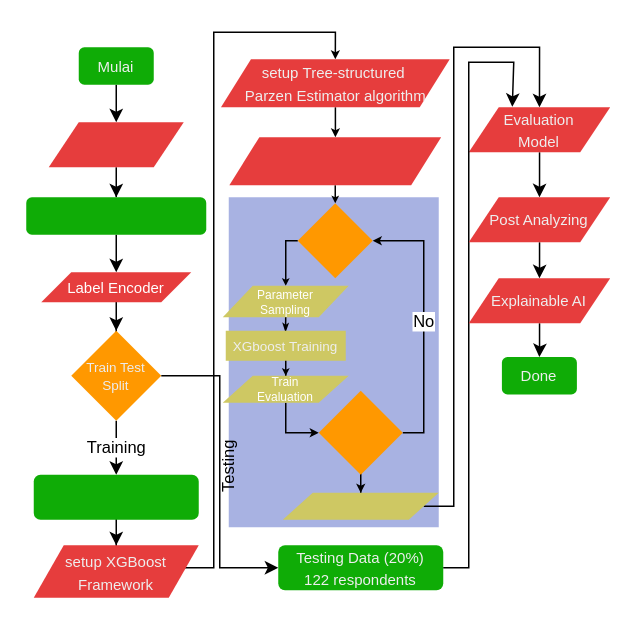
The diagram is 636 pixels wide and 624 high, and some of its shapes have lost their labels. The centre of each missing label's shape, as x and y in pixels:
Best Metrics?: [360,432]
Dataset Preparation: [115,144]
Define Hyperparametrics space: [334,160]
Explanatory Data Analysis: [116,215]
Training Data (80%) 485 respondents: [115,496]
Trials: [334,240]
XGBoost with Best Parameter: [360,505]
